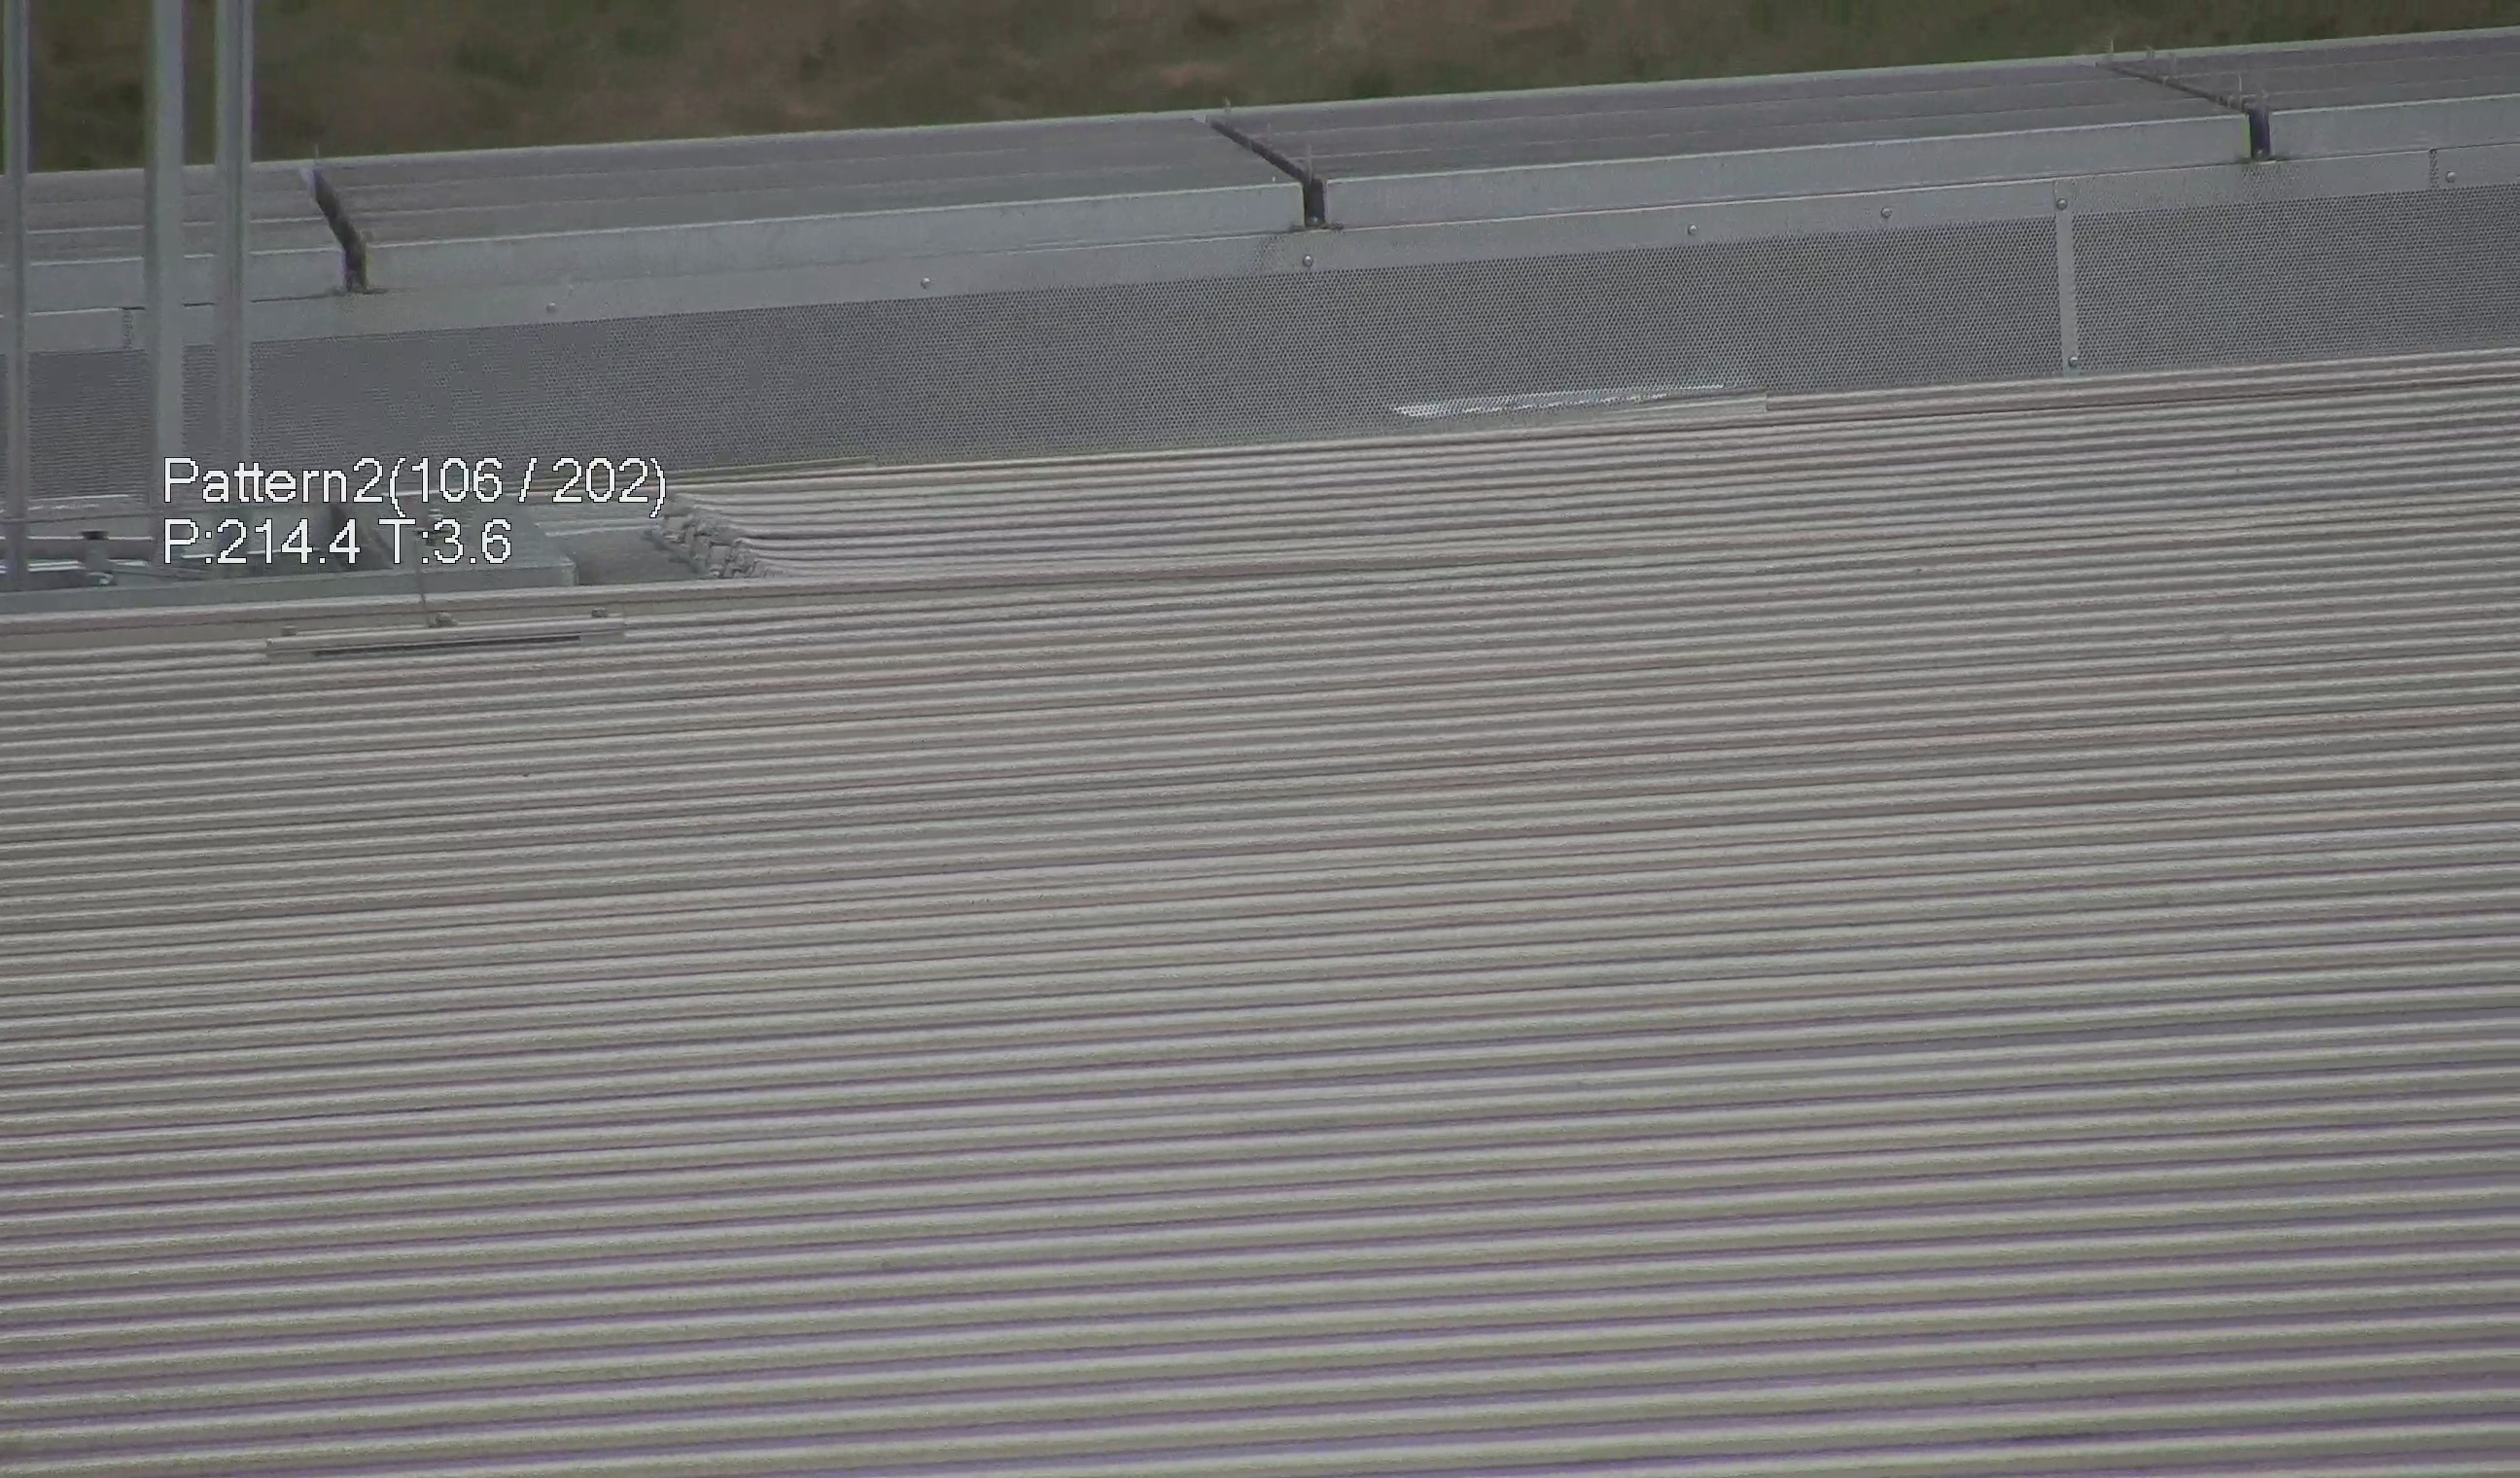Other: (292, 153, 380, 304)
